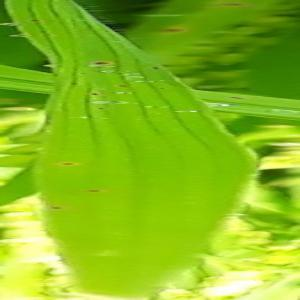Brown_Spot: (83, 55, 120, 70), (77, 184, 106, 199), (54, 157, 83, 170), (157, 25, 188, 37), (215, 1, 246, 12), (45, 199, 65, 214), (226, 93, 247, 103), (114, 82, 133, 90), (88, 89, 104, 98), (149, 62, 162, 73), (68, 78, 78, 88), (96, 105, 106, 113), (158, 85, 168, 93), (152, 78, 160, 86)
